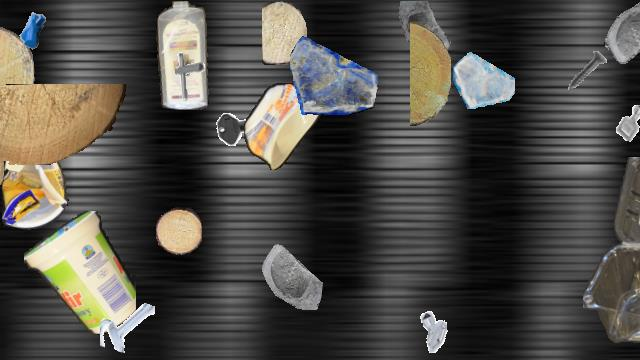glass: (290, 29, 378, 117), (249, 235, 323, 309), (395, 1, 459, 65), (453, 47, 515, 109), (604, 1, 640, 63)
metal: (5, 1, 59, 55), (100, 298, 154, 352), (160, 49, 214, 103), (561, 45, 615, 99), (414, 308, 458, 352), (606, 97, 640, 149), (214, 107, 256, 149)
plastic: (24, 211, 136, 335), (583, 157, 640, 359), (244, 83, 322, 169), (2, 132, 70, 230), (154, 1, 212, 109)
wood: (0, 84, 127, 164), (410, 22, 450, 126), (0, 26, 34, 130), (262, 1, 306, 65), (156, 207, 202, 255), (0, 145, 3, 193)
